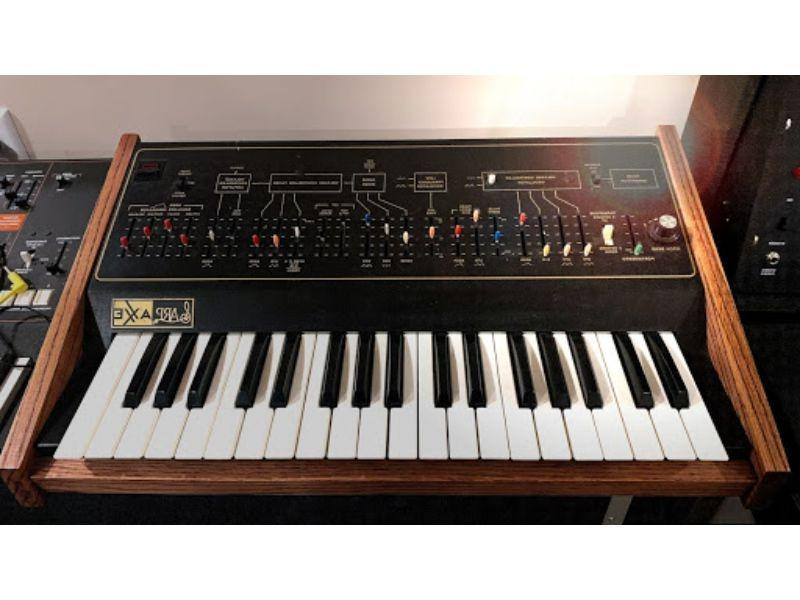synthesizer: (35, 130, 773, 487)
